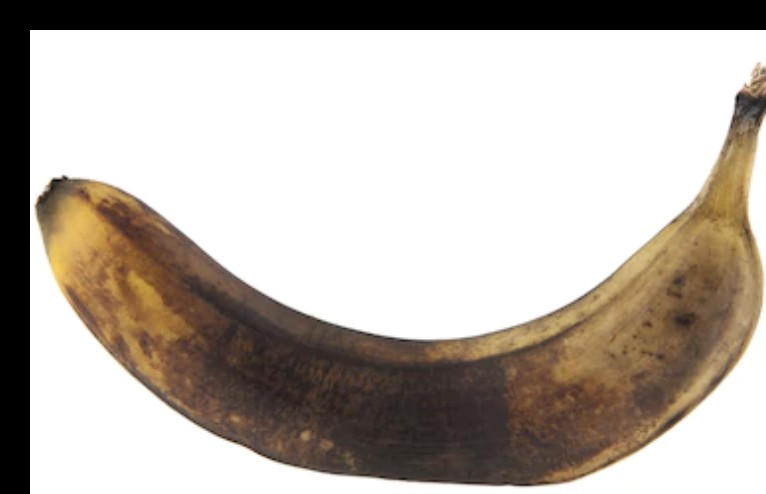rotten_banana: (36, 63, 763, 485)
